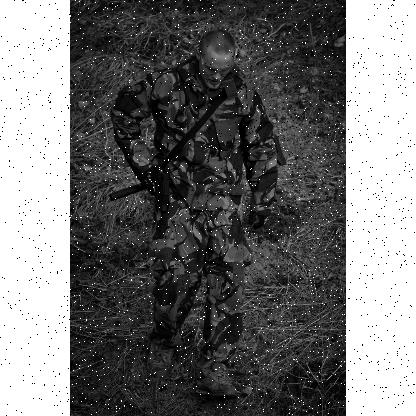gun: (108, 167, 166, 211)
